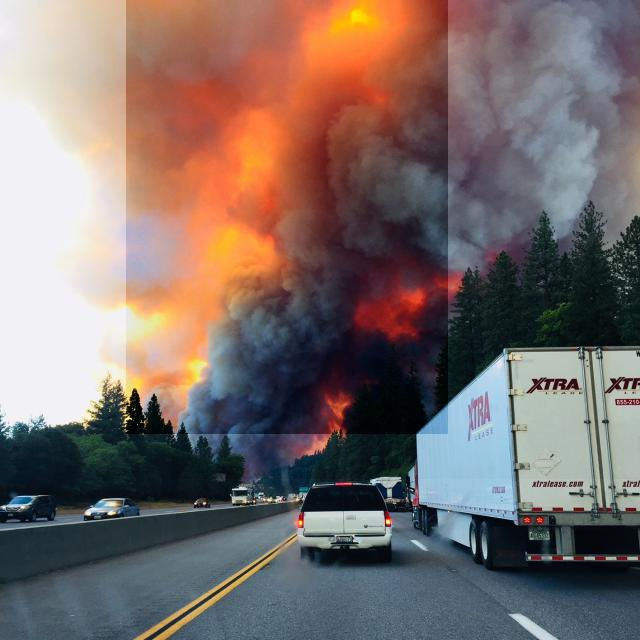Fire: (126, 0, 448, 434)
Smoke: (171, 0, 640, 479)
